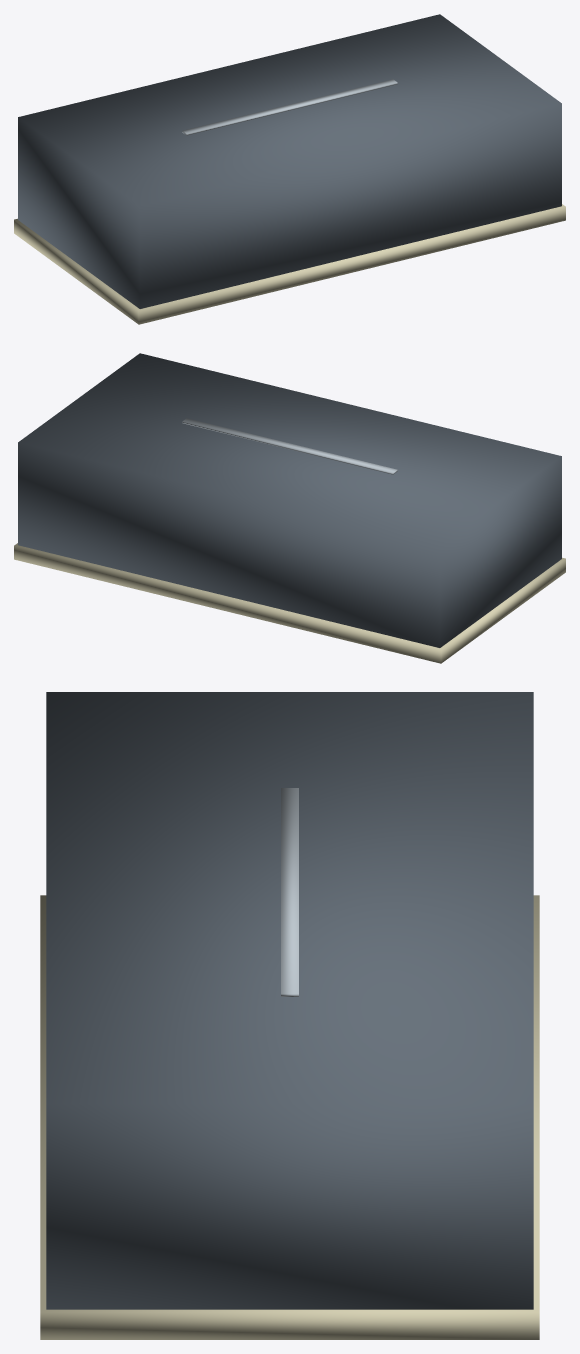
The picture shows the model from 3 angles, top to bottom: view 1: azimuth 30°, elevation 25°; view 2: azimuth 150°, elevation 25°; view 3: azimuth 270°, elevation 25°; orthographic projection. The views are drawn at different scales.
Visible parts, largest first — view 1: Part_000, Part_001, Part_006; view 2: Part_000, Part_001, Part_006; view 3: Part_000, Part_001, Part_006.
Part boxes in pixels (box(x1,y1,x2,y2)): Part_000: box(18, 14, 561, 308); Part_001: box(14, 204, 565, 324); Part_006: box(182, 79, 397, 135); Part_000: box(18, 353, 561, 647); Part_001: box(14, 543, 565, 663); Part_006: box(182, 418, 397, 474); Part_000: box(46, 692, 533, 1309); Part_001: box(40, 895, 539, 1339); Part_006: box(281, 788, 298, 996).
Size of the model in its own units: 0.0081 by 0.0041 by 0.00221.
